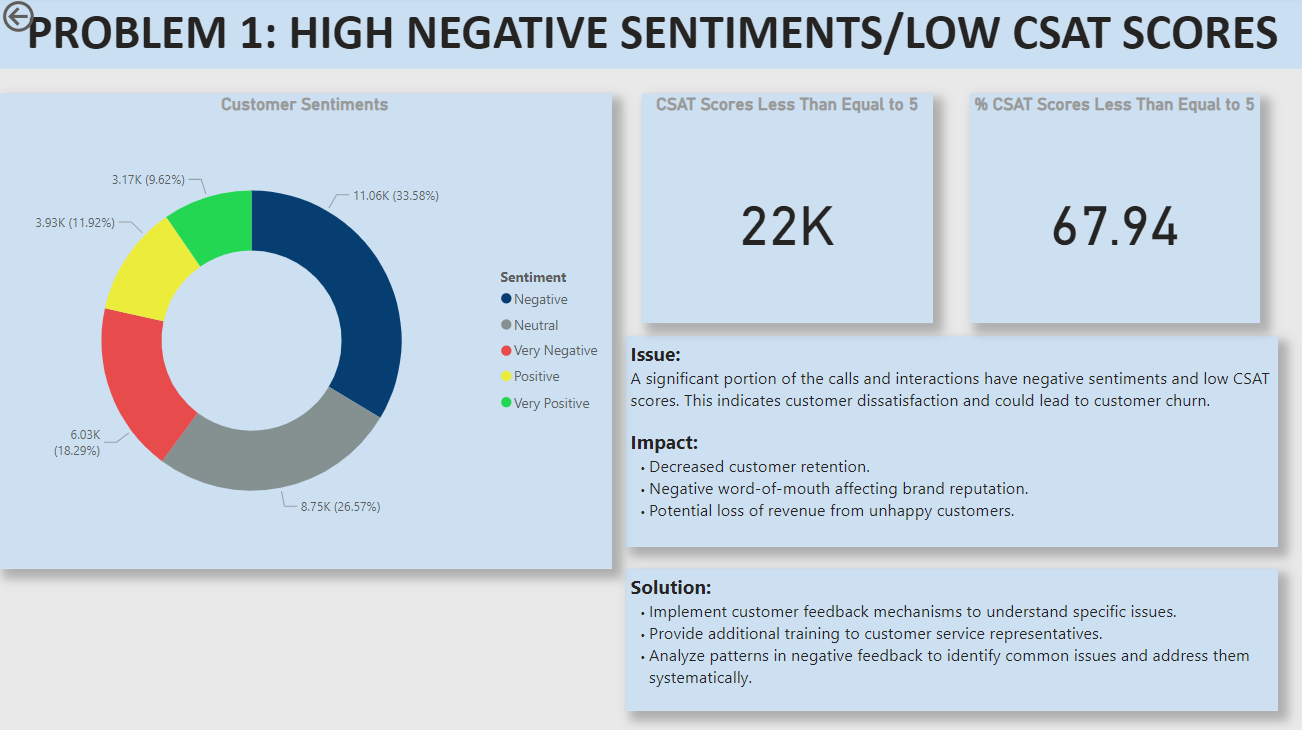

Layout of this report page (visuals, bound fields, positions):
{"tool":"powerbi","page":{"name":"Problem 1","canvas":[1280,720],"ordinal":1},"visuals":[{"type":"textbox","box":[0,0,1280.3,70.9],"z":0},{"type":"donutChart","title":"Customer Sentiments","fields":{"Category":["Hospitality call center data.sentiment"],"Y":["CountNonNull(Hospitality call center data.sentiment)"]},"box":[0,95.4,600.4,464.7],"z":1000},{"type":"actionButton","box":[0,0,100,40],"z":2000},{"type":"card","title":"CSAT Scores Less Than Equal to 5","fields":{"Values":["Hospitality call center data.CSAT below 5"]},"box":[629.8,95.4,284.9,225],"z":3000},{"type":"card","title":"% CSAT Scores Less Than Equal to 5","fields":{"Values":["Hospitality call center data.CSAT Below 5 percent"]},"box":[950.1,95.4,284.9,225],"z":4000},{"type":"textbox","box":[613.9,332.6,638.3,206.7],"z":5000},{"type":"textbox","box":[613.9,560.1,638.3,139.4],"z":6000}]}

Visuals, with their boxes in screenshot pixels (x1, y1, x2, y2), scaled from the page's 1280x720 canvas onto the 1302x730 screenshot:
textbox: {"x1": 0, "y1": 0, "x2": 1301, "y2": 72}
"Customer Sentiments" donutChart: {"x1": 0, "y1": 97, "x2": 611, "y2": 568}
actionButton: {"x1": 0, "y1": 0, "x2": 102, "y2": 41}
"CSAT Scores Less Than Equal to 5" card: {"x1": 641, "y1": 97, "x2": 930, "y2": 325}
"% CSAT Scores Less Than Equal to 5" card: {"x1": 966, "y1": 97, "x2": 1256, "y2": 325}
textbox: {"x1": 624, "y1": 337, "x2": 1274, "y2": 547}
textbox: {"x1": 624, "y1": 568, "x2": 1274, "y2": 709}
